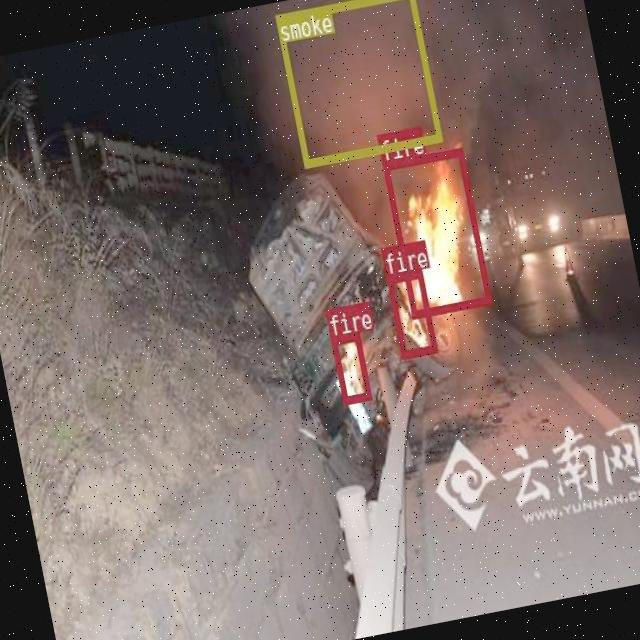fire: (381, 146, 492, 318), (386, 269, 436, 357), (330, 331, 370, 404)
smoke: (274, 0, 441, 167)
